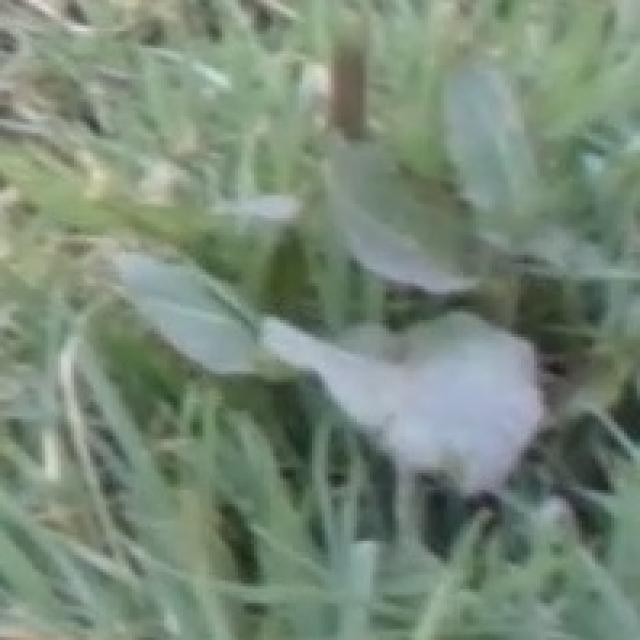organic waste: (39, 68, 605, 519)
